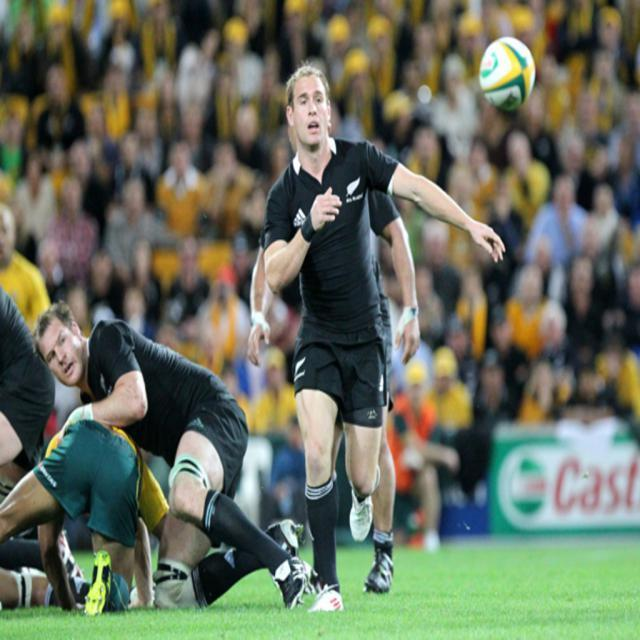football: (464, 23, 551, 134)
